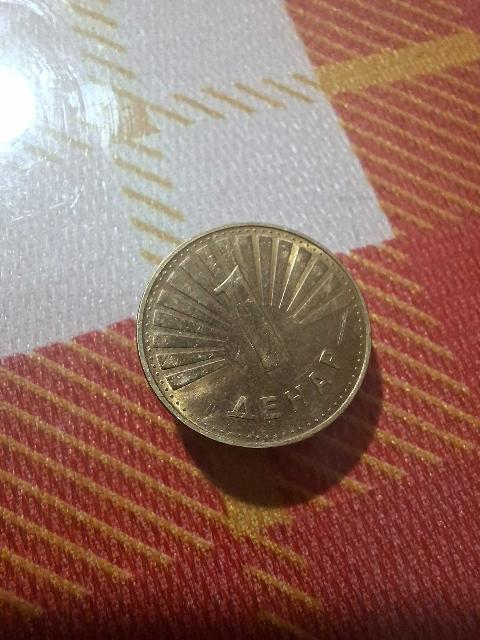1_coin: (138, 224, 370, 447)
